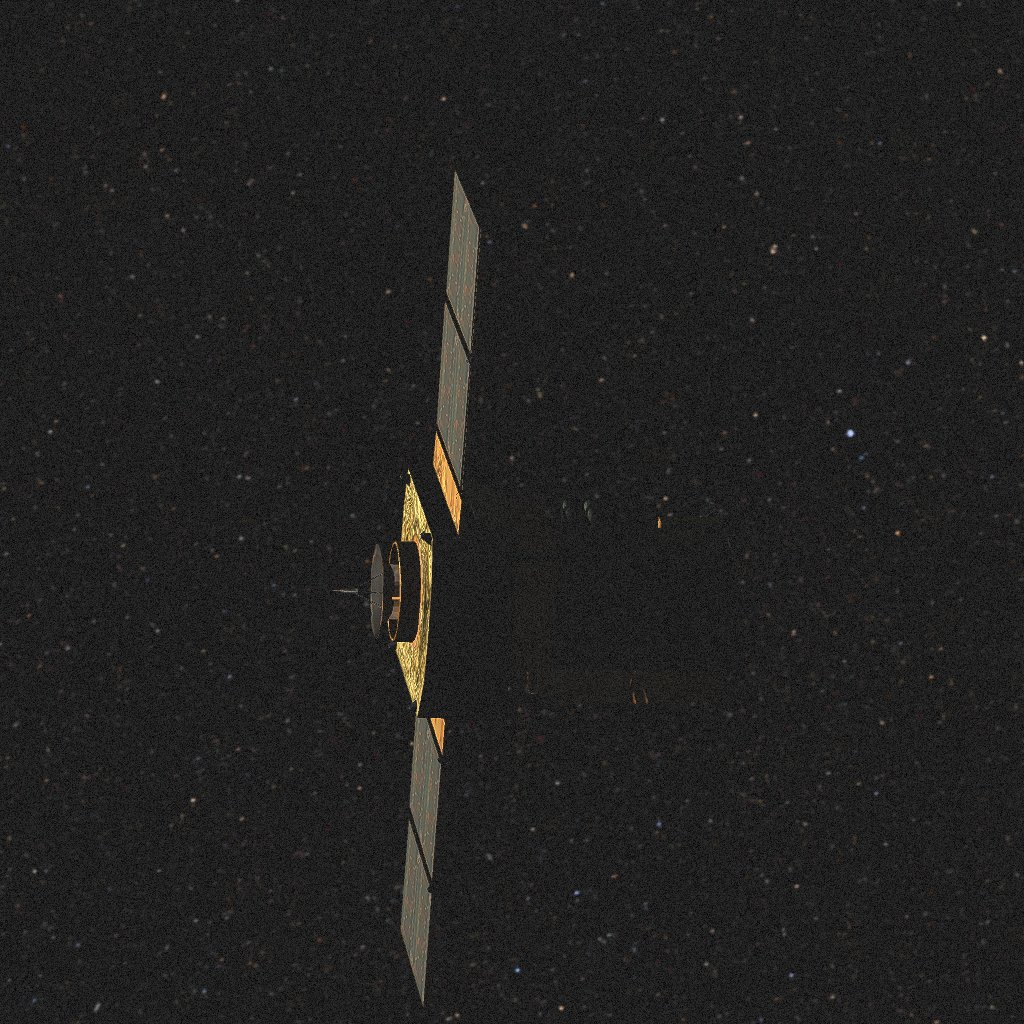soho: (332, 166, 742, 1012)
